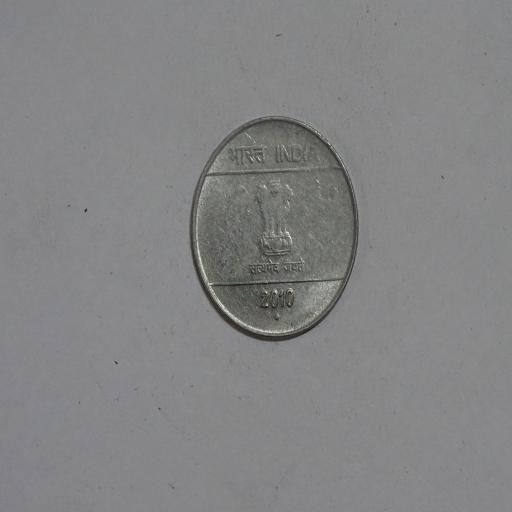rupee2: (184, 114, 363, 348)
